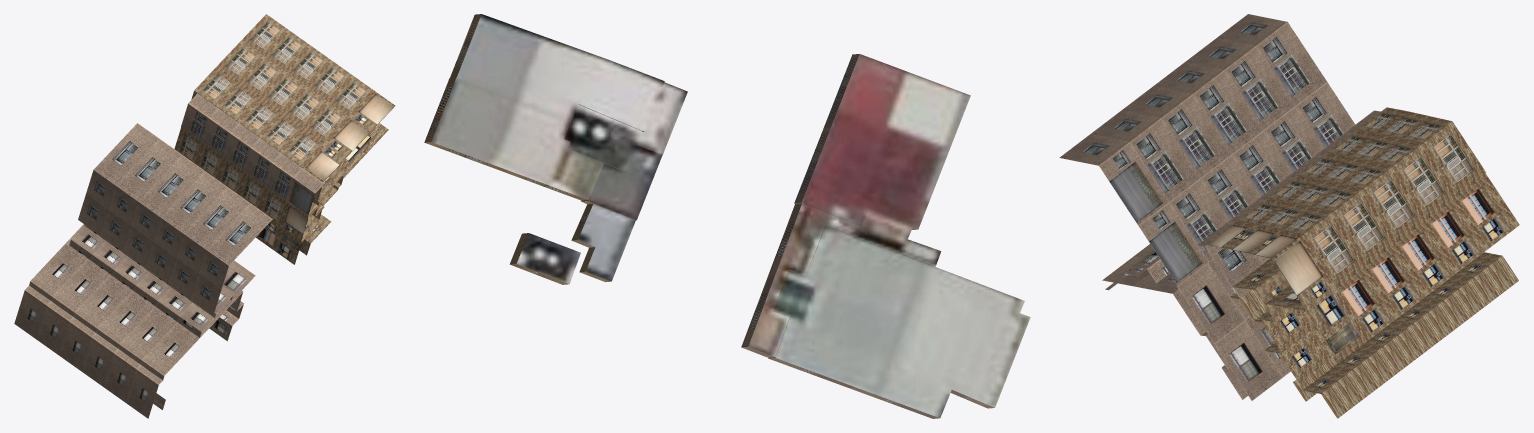
The picture shows the model from 3 angles, left to right: view 1: azimuth 30°, elevation 25°; view 2: azimuth 150°, elevation 25°; view 3: azimuth 270°, elevation 25°; orthographic projection. The views are drawn at different scales.
Size of the model in its own units: 51.35 by 36.86 by 37.99.
Materials: 39 (39 with a texture image).
